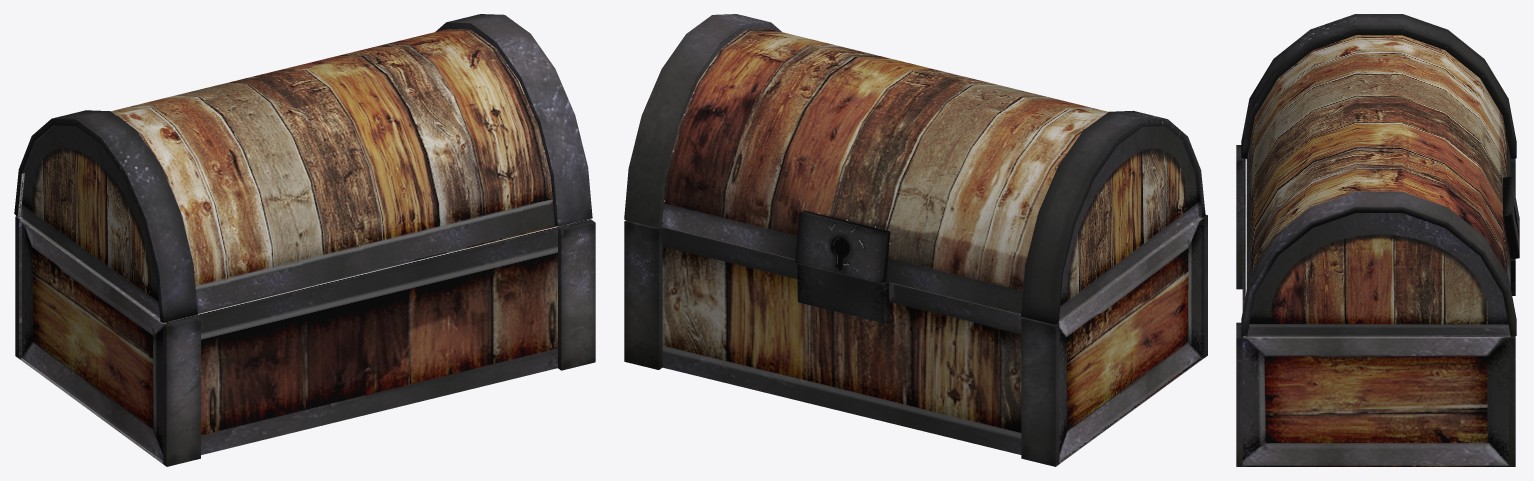
Rendered from Chest.fbx.
3 views of the same model, side by side, from view 1: azimuth 30°, elevation 25°; view 2: azimuth 150°, elevation 25°; view 3: azimuth 270°, elevation 25° (orthographic). The views are drawn at different scales.
Parts seen in each view (by area): view 1: ChestLid, Chest; view 2: ChestLid, Chest; view 3: ChestLid, Chest.
Boxes of the visible parts, x1,y1,x2,y2 form: ChestLid: [14, 14, 592, 322]; Chest: [15, 216, 595, 466]; ChestLid: [624, 14, 1205, 324]; Chest: [624, 215, 1207, 466]; ChestLid: [1241, 14, 1519, 336]; Chest: [1236, 145, 1515, 466].
Bounding box in the file's own units: 291 × 182 × 180.
